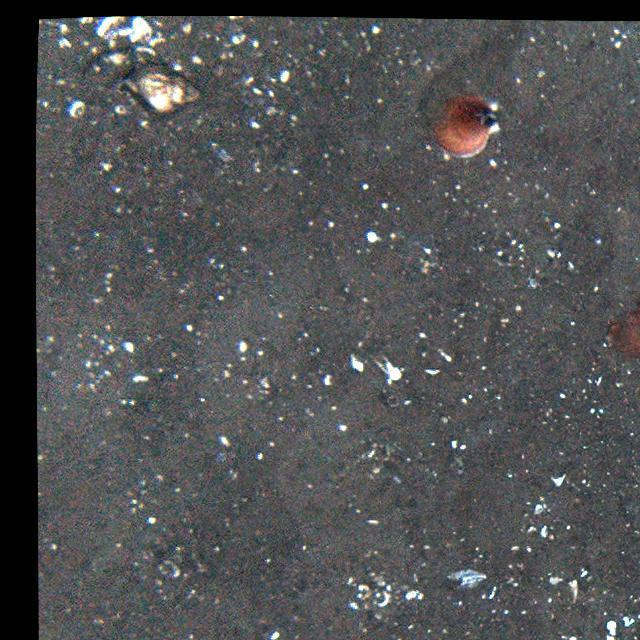whelk: (120, 66, 200, 109)
